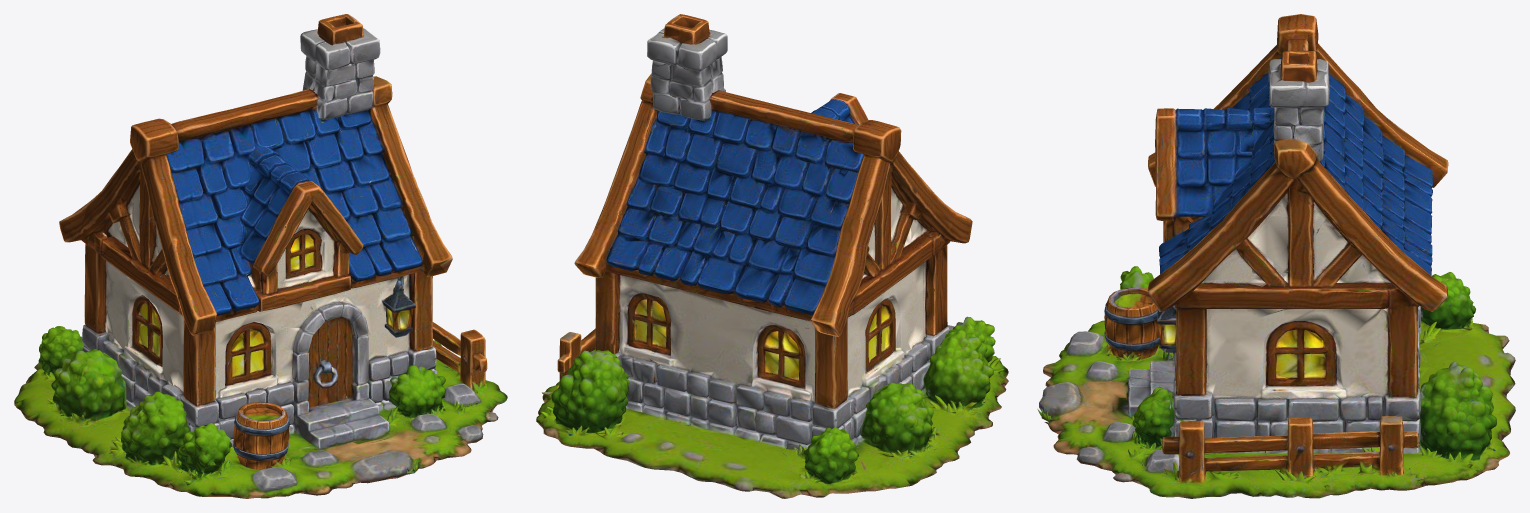
Rendered from casa_e4.glb.
The picture shows the model from 3 angles, left to right: view 1: azimuth 30°, elevation 25°; view 2: azimuth 150°, elevation 25°; view 3: azimuth 270°, elevation 25°; orthographic projection. The views are drawn at different scales.
Size of the model in its own units: 1.9 by 1.65 by 1.86.
1 material, 1 textured.
